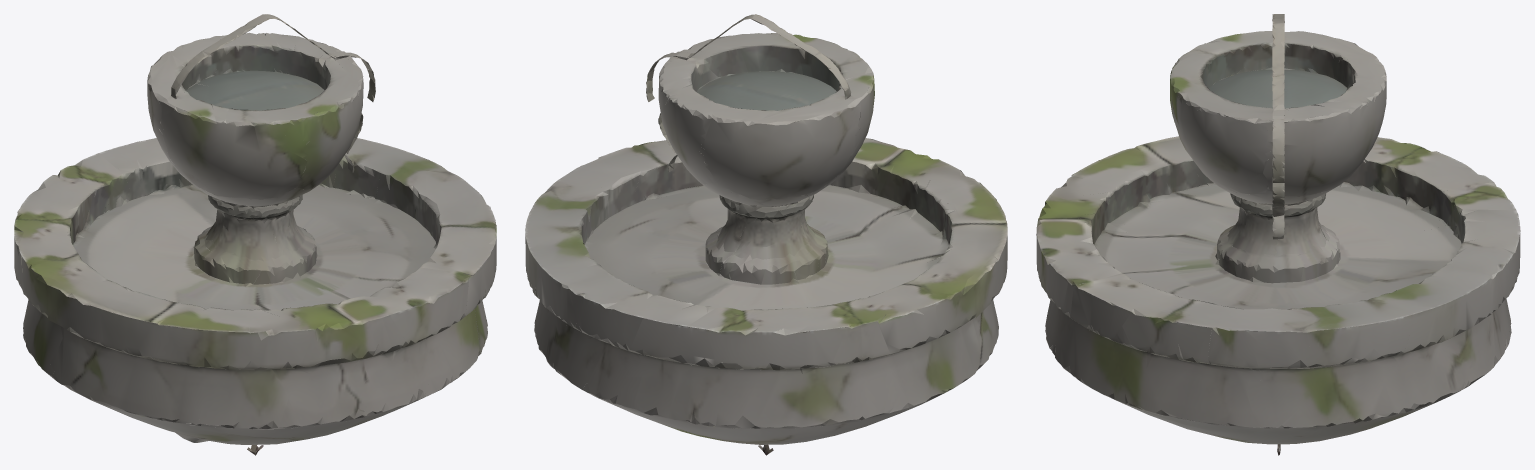
The model's file is Lab_Fountain.glb.
3 views of the same model, side by side, from view 1: azimuth 30°, elevation 25°; view 2: azimuth 150°, elevation 25°; view 3: azimuth 270°, elevation 25° (orthographic).
Visible parts, largest first — view 1: Lab_Fountain; view 2: Lab_Fountain; view 3: Lab_Fountain.
Part boxes in pixels (bbox=[...]): Lab_Fountain: bbox=[14, 14, 496, 455]; Lab_Fountain: bbox=[525, 14, 1007, 455]; Lab_Fountain: bbox=[1036, 14, 1520, 455].
Bounding box in the file's own units: 1.8 × 1.8 × 1.8.
1 material, 1 textured.
